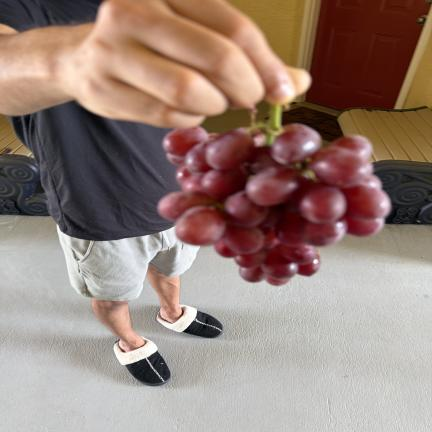grape_cluster: (157, 105, 391, 285)
